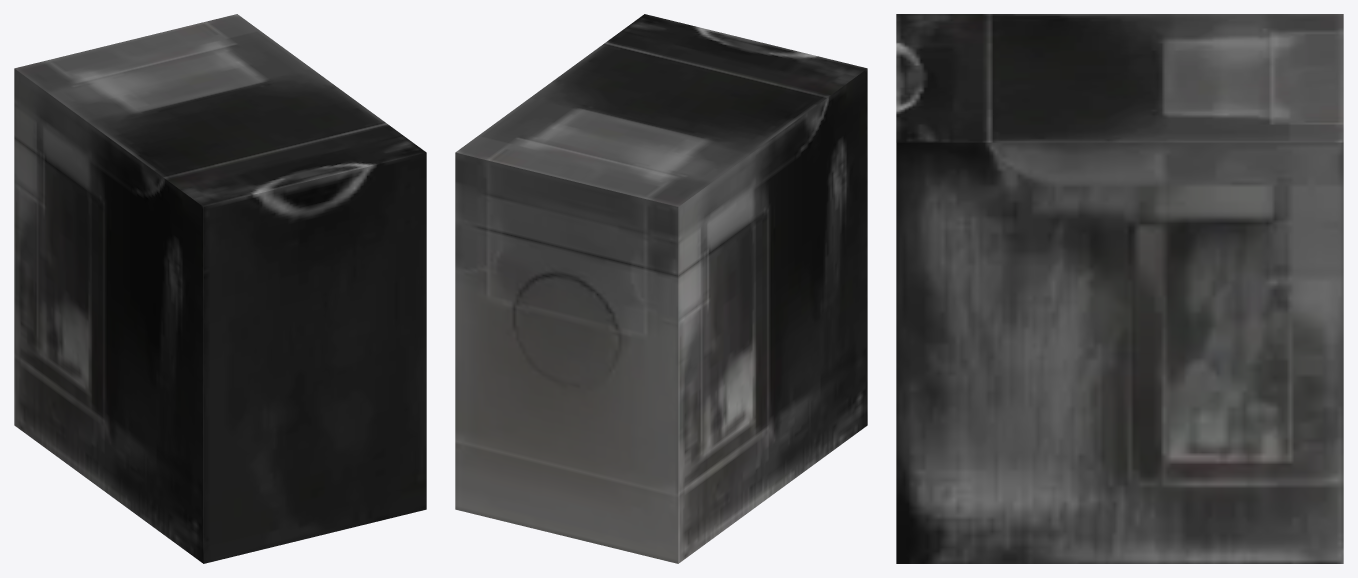
File: optical_carriage__head_body.glb
3 views of the same model, side by side, from view 1: azimuth 30°, elevation 25°; view 2: azimuth 150°, elevation 25°; view 3: azimuth 270°, elevation 25° (orthographic). The views are drawn at different scales.
Visible parts, largest first — view 1: world; view 2: world; view 3: world.
Part boxes in pixels (box(x1,y1,x2,y2)): world: box(14, 14, 426, 563); world: box(455, 14, 867, 563); world: box(896, 14, 1343, 563).
Bounding box in the file's own units: 0.034 × 0.052 × 0.05.
1 material, 1 textured.
